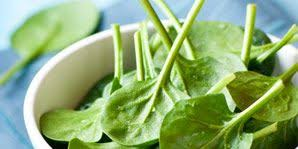spinach: (94, 52, 247, 141)
